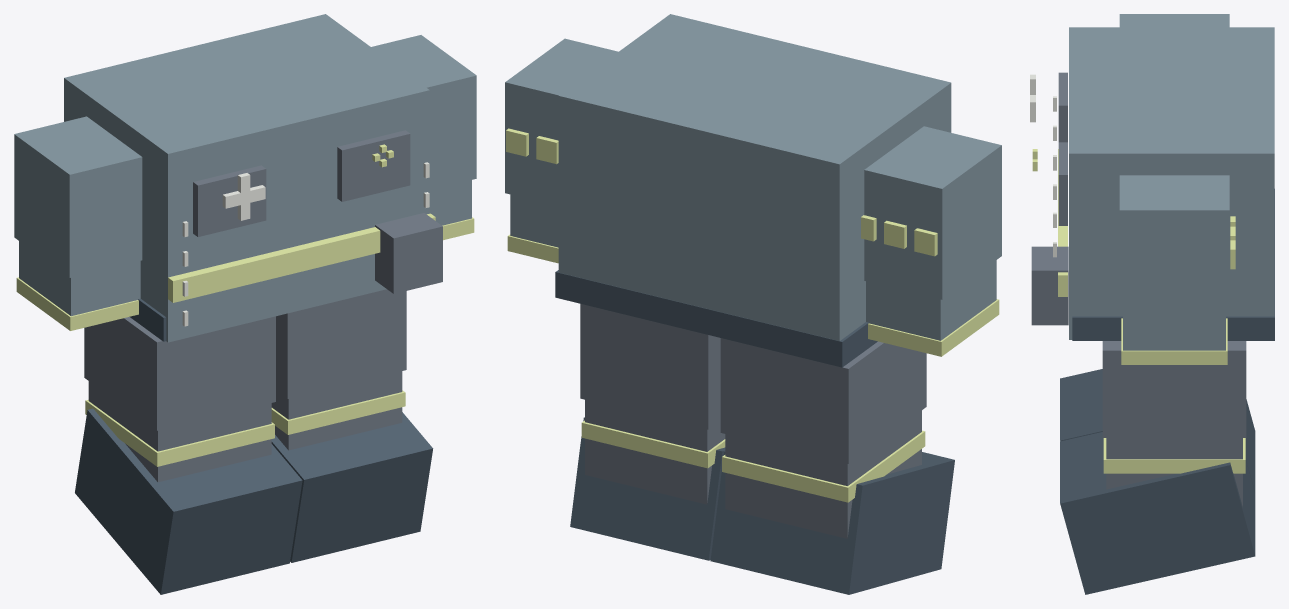
The model's file is paramedic-slate.glb.
3 renders of one model, left to right at view 1: azimuth 30°, elevation 25°; view 2: azimuth 150°, elevation 25°; view 3: azimuth 270°, elevation 25°, orthographic. The views are drawn at different scales.
Visible parts, largest first — view 1: jacket, shoe-Right, upper-sleeve-Right, trouser-Right, shoe-Left, trouser-Left, upper-sleeve-Left, lower-trouser-Right, reflective-band, lower-trouser-Left, lower-sleeve-Right, medical-pouch (+8 smaller); view 2: jacket, trouser-Right, shoe-Right, upper-sleeve-Right, trouser-Left, lower-trouser-Right, shoe-Left, medical-belt, upper-sleeve-Left, lower-trouser-Left, lower-sleeve-Right, reflective-leg-Right (+4 smaller); view 3: jacket, shoe-Left, upper-sleeve-Left, trouser-Left, lower-sleeve-Left, lower-trouser-Left, shoe-Right, medical-pouch, medical-belt, reflective-leg-Left, cuff-Left, upper-sleeve-Right (+3 smaller).
Boxes of the visible parts, x1=… form: jacket: x1=64, y1=14, x2=429, y2=342; shoe-Right: x1=75, y1=408, x2=302, y2=594; upper-sleeve-Right: x1=14, y1=116, x2=142, y2=277; trouser-Right: x1=84, y1=316, x2=275, y2=430; shoe-Left: x1=271, y1=412, x2=433, y2=562; trouser-Left: x1=276, y1=289, x2=406, y2=398; upper-sleeve-Left: x1=371, y1=35, x2=476, y2=189; lower-trouser-Right: x1=88, y1=381, x2=271, y2=482; reflective-band: x1=168, y1=213, x2=435, y2=302; lower-trouser-Left: x1=271, y1=371, x2=402, y2=450; lower-sleeve-Right: x1=19, y1=241, x2=140, y2=316; medical-pouch: x1=375, y1=213, x2=442, y2=293; jacket: x1=558, y1=14, x2=951, y2=340; trouser-Right: x1=720, y1=338, x2=926, y2=463; shoe-Right: x1=710, y1=451, x2=954, y2=594; upper-sleeve-Right: x1=864, y1=126, x2=1001, y2=299; trouser-Left: x1=580, y1=304, x2=720, y2=429; lower-trouser-Right: x1=725, y1=410, x2=921, y2=538; shoe-Left: x1=570, y1=417, x2=725, y2=560; medical-belt: x1=555, y1=270, x2=877, y2=367; upper-sleeve-Left: x1=505, y1=38, x2=618, y2=205; lower-trouser-Left: x1=585, y1=400, x2=725, y2=504; lower-sleeve-Right: x1=866, y1=260, x2=996, y2=340; reflective-leg-Right: x1=722, y1=430, x2=925, y2=502; jacket: x1=1069, y1=27, x2=1274, y2=339; shoe-Left: x1=1060, y1=432, x2=1255, y2=594; upper-sleeve-Left: x1=1119, y1=175, x2=1229, y2=312; trouser-Left: x1=1102, y1=341, x2=1246, y2=437; lower-sleeve-Left: x1=1123, y1=312, x2=1225, y2=350; lower-trouser-Left: x1=1106, y1=438, x2=1242, y2=506; shoe-Right: x1=1060, y1=369, x2=1255, y2=492; medical-pouch: x1=1031, y1=246, x2=1068, y2=325; medical-belt: x1=1072, y1=189, x2=1274, y2=340; reflective-leg-Left: x1=1103, y1=438, x2=1245, y2=473; cuff-Left: x1=1121, y1=318, x2=1227, y2=364; upper-sleeve-Right: x1=1119, y1=14, x2=1229, y2=27.
Size of the model in its own units: 1.07 by 1.13 by 0.566.
